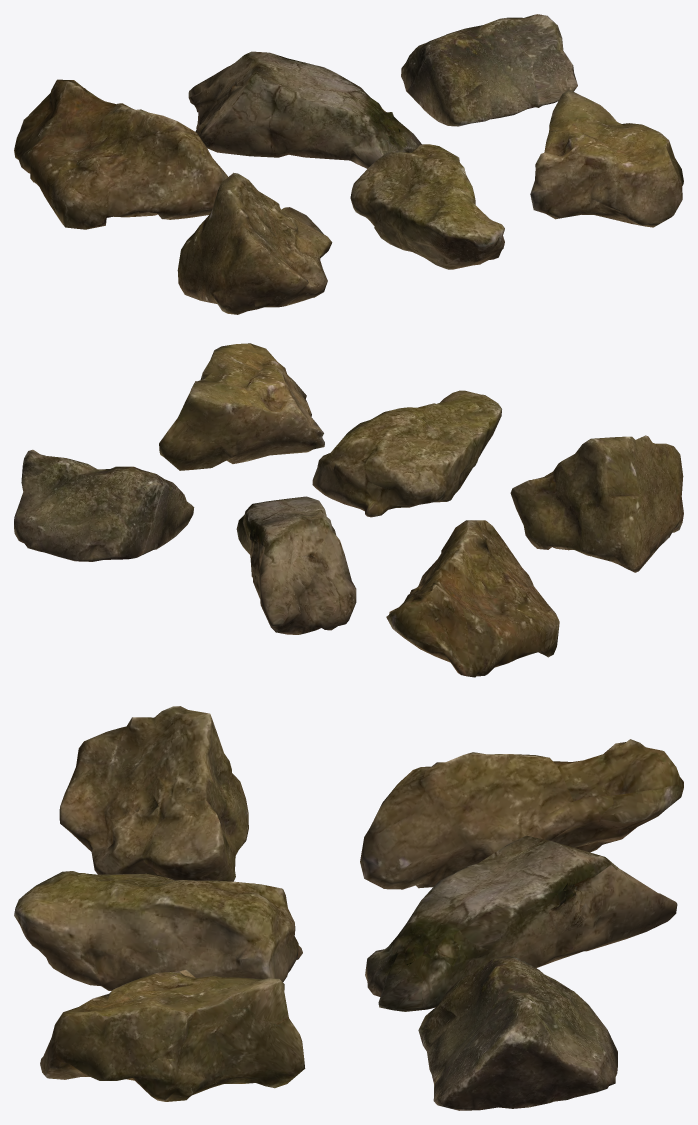
Rendered from rock_moss_set_01-lod.glb.
3 views of the same model, one above another, from view 1: azimuth 30°, elevation 25°; view 2: azimuth 150°, elevation 25°; view 3: azimuth 270°, elevation 25° (orthographic). The views are drawn at different scales.
Visible parts, largest first — view 1: rock_moss_set_01_rock01, rock_moss_set_01_rock02, rock_moss_set_01_rock06, rock_moss_set_01_rock04, rock_moss_set_01_rock03, rock_moss_set_01_rock05; view 2: rock_moss_set_01_rock04, rock_moss_set_01_rock01, rock_moss_set_01_rock05, rock_moss_set_01_rock03, rock_moss_set_01_rock06, rock_moss_set_01_rock02; view 3: rock_moss_set_01_rock01, rock_moss_set_01_rock02, rock_moss_set_01_rock05, rock_moss_set_01_rock04, rock_moss_set_01_rock06, rock_moss_set_01_rock03.
Boxes of the visible parts, <box> form: rock_moss_set_01_rock01: <box>14,79,227,229</box>; rock_moss_set_01_rock02: <box>188,51,421,168</box>; rock_moss_set_01_rock06: <box>530,89,683,227</box>; rock_moss_set_01_rock04: <box>177,172,332,314</box>; rock_moss_set_01_rock03: <box>401,14,577,126</box>; rock_moss_set_01_rock05: <box>350,144,504,269</box>; rock_moss_set_01_rock04: <box>510,435,683,572</box>; rock_moss_set_01_rock01: <box>386,520,559,677</box>; rock_moss_set_01_rock05: <box>312,390,501,517</box>; rock_moss_set_01_rock03: <box>14,449,194,561</box>; rock_moss_set_01_rock06: <box>159,343,324,470</box>; rock_moss_set_01_rock02: <box>236,496,356,634</box>; rock_moss_set_01_rock01: <box>360,739,683,889</box>; rock_moss_set_01_rock02: <box>365,835,677,1011</box>; rock_moss_set_01_rock05: <box>14,871,302,990</box>; rock_moss_set_01_rock04: <box>59,706,248,881</box>; rock_moss_set_01_rock06: <box>40,969,305,1101</box>; rock_moss_set_01_rock03: <box>418,955,617,1110</box>.
Size of the model in its own units: 8 by 1.76 by 6.94.
1 material, 1 textured.
